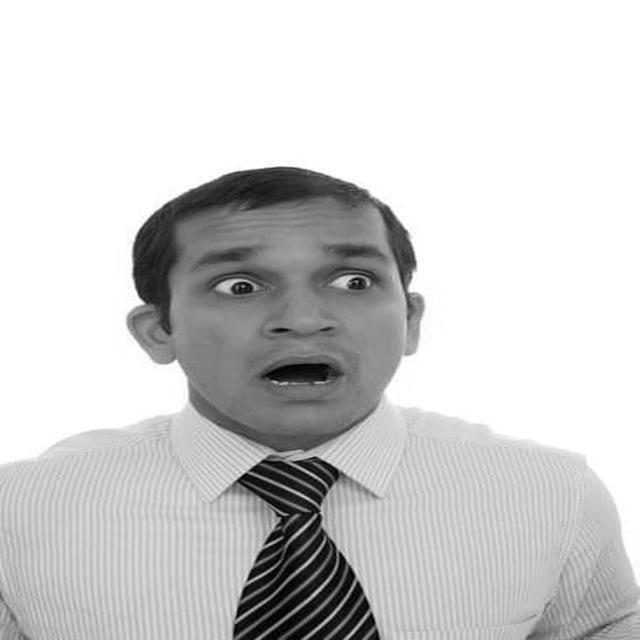Fear: (185, 212, 399, 440)
